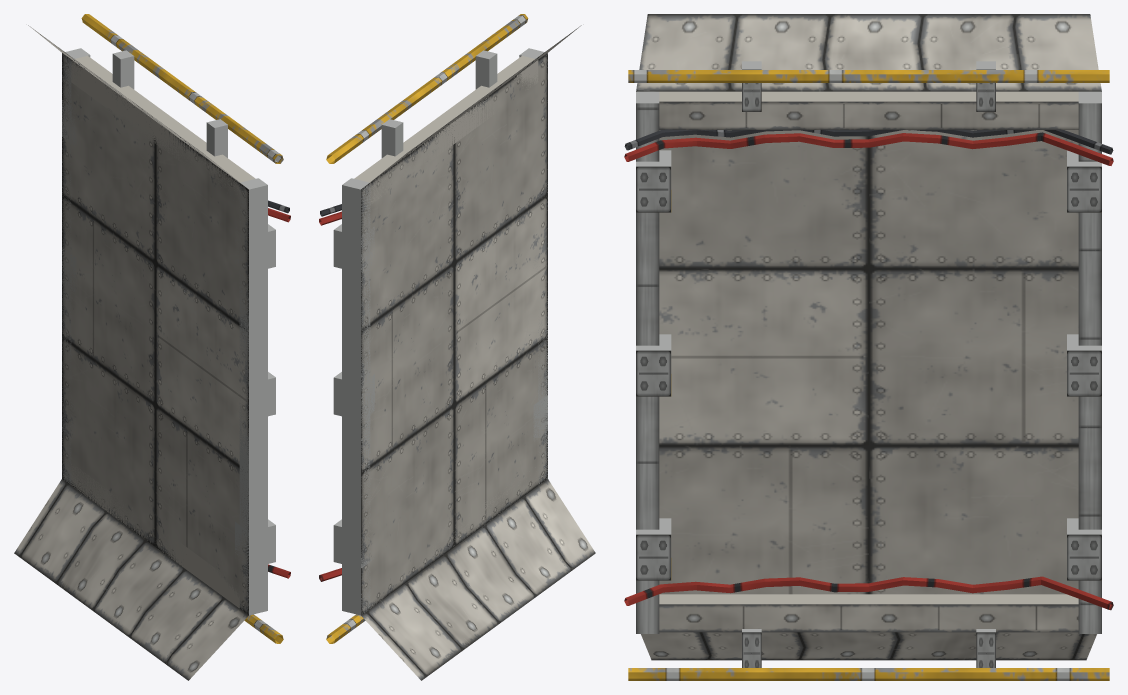
Rendered from cen_wall_white.fbx.
3 views of the same model, side by side, from view 1: azimuth 30°, elevation 25°; view 2: azimuth 150°, elevation 25°; view 3: azimuth 270°, elevation 25° (orthographic). The views are drawn at different scales.
Visible parts, largest first — view 1: cen_wall_white; view 2: cen_wall_white; view 3: cen_wall_white.
Part boxes in pixels (x1,y1,x2,y2): cen_wall_white: (14, 14, 290, 680); cen_wall_white: (319, 14, 595, 680); cen_wall_white: (624, 14, 1113, 680).
Size of the model in its own units: 0.3437 by 1.85 by 1.25.
Materials: 1 (1 with a texture image).
